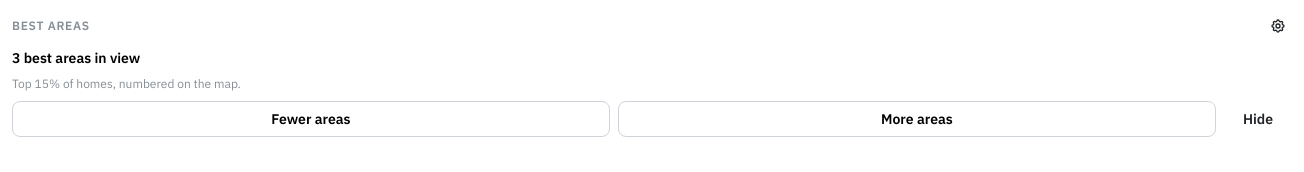
Test: BestAreasControls (TODO-052) › once on: how many areas, More / Fewer step through the strictness, Hide clears
Expected: the text "3 best areas in view" is shown, left=12, top=49, right=140, bottom=67
Expected: the text "Top 15% of homes, numbered on the map." is shown, left=12, top=76, right=241, bottom=91
What coordinates should you click on to do the following:
click the button "More areas"
I would click on:
 (917, 119)
Its box is left=618, top=101, right=1216, bottom=137.
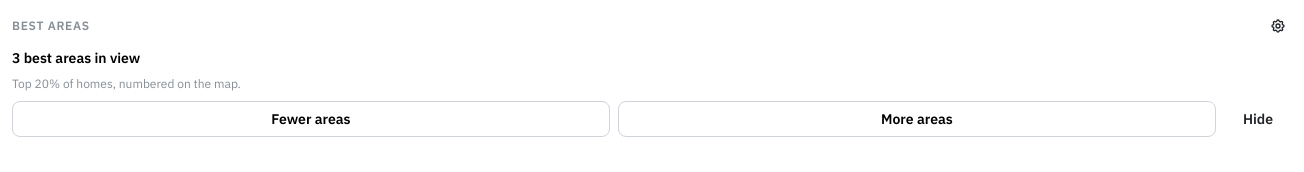
What coordinates should you click on to do the following:
click the button "Fewer areas"
I would click on:
 (311, 119)
Its box is left=12, top=101, right=610, bottom=137.
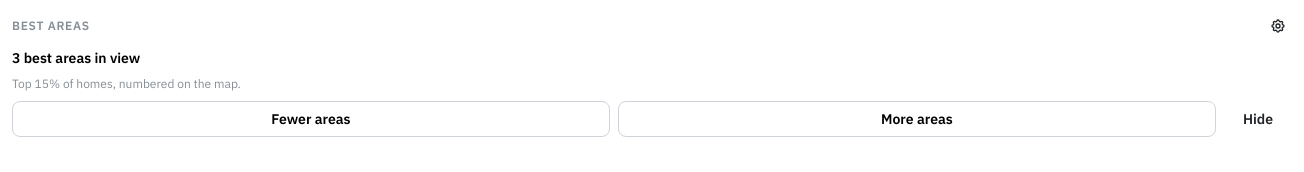
What coordinates should you click on to do the following:
click the button "Fewer areas"
I would click on:
 (311, 119)
Its box is left=12, top=101, right=610, bottom=137.
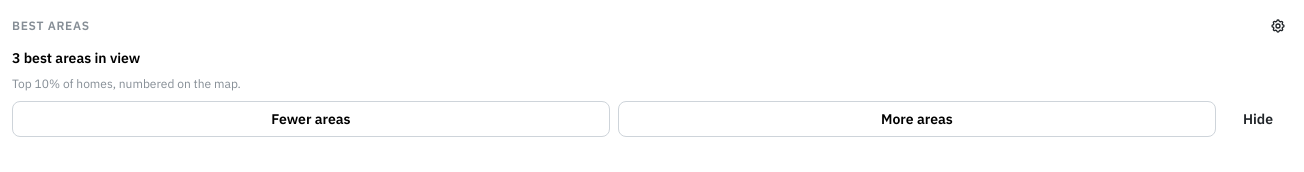
What coordinates should you click on to do the following:
click the button "Hide"
I would click on:
 (1258, 119)
Its box is left=1224, top=101, right=1292, bottom=137.
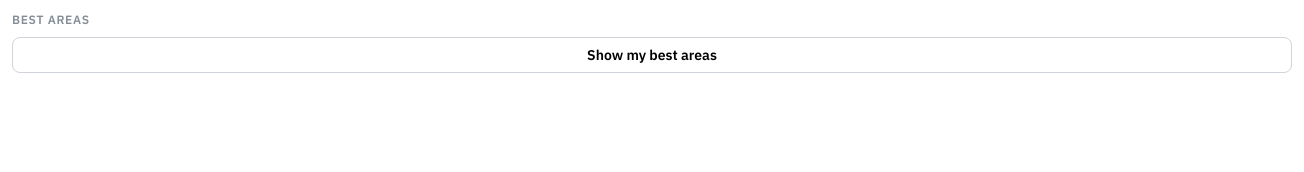
Now the button "Show my best areas" is shown, box left=12, top=37, right=1292, bottom=73
